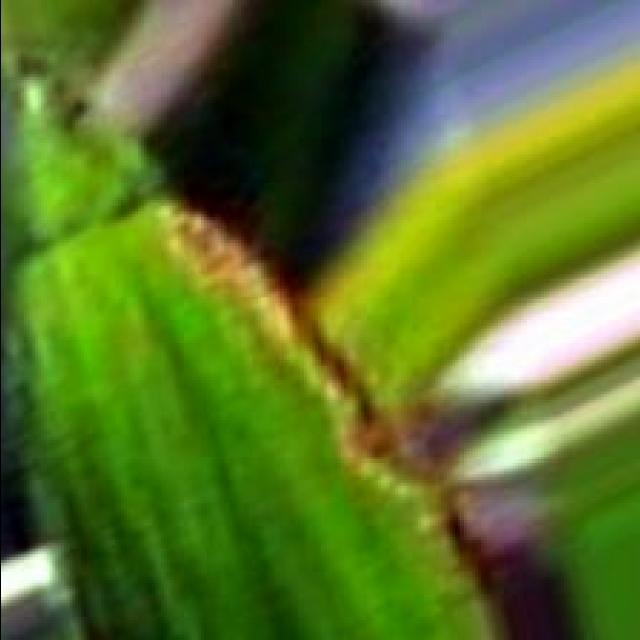Unhealthy: (159, 205, 498, 640)
